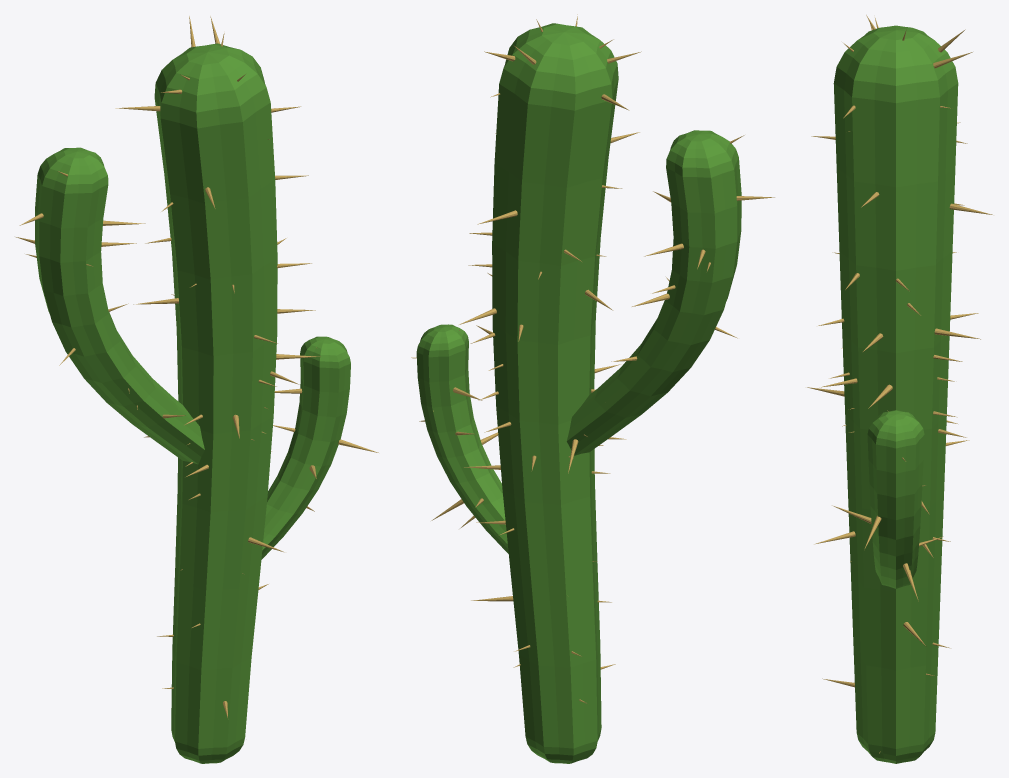
Rendered from desert_cactus_1.fbx.
The picture shows the model from 3 angles, left to right: view 1: azimuth 30°, elevation 25°; view 2: azimuth 150°, elevation 25°; view 3: azimuth 270°, elevation 25°; orthographic projection. The views are drawn at different scales.
Visible parts, largest first — view 1: Cactus.001, Cactus; view 2: Cactus.001, Cactus; view 3: Cactus.001, Cactus.
Boxes of the visible parts, bbox=[...] form: Cactus.001: bbox=[35, 43, 350, 763]; Cactus: bbox=[16, 16, 378, 717]; Cactus.001: bbox=[416, 23, 741, 763]; Cactus: bbox=[411, 14, 774, 703]; Cactus.001: bbox=[833, 25, 958, 763]; Cactus: bbox=[807, 15, 992, 753].
Size of the model in its own units: 356 by 687 by 160.
